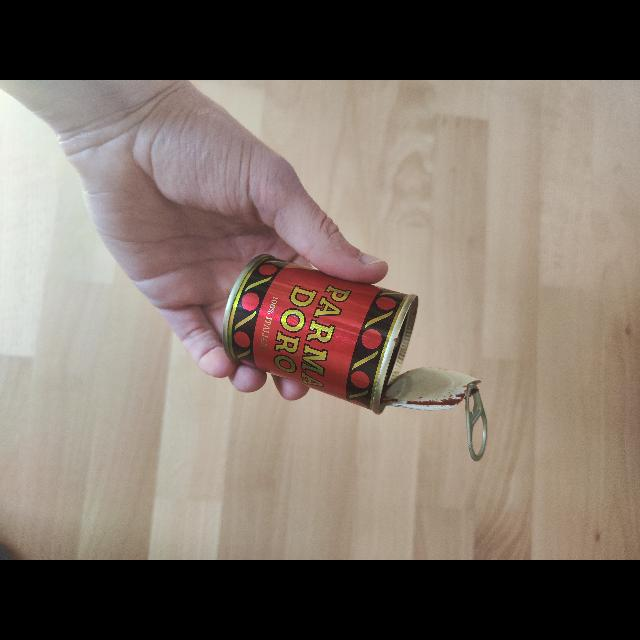Metal: (228, 248, 494, 470)
